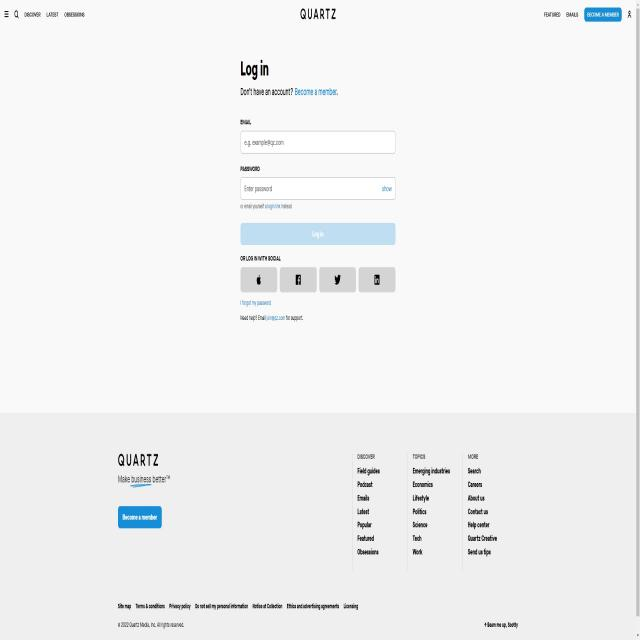menu-bar: (537, 1, 633, 26)
